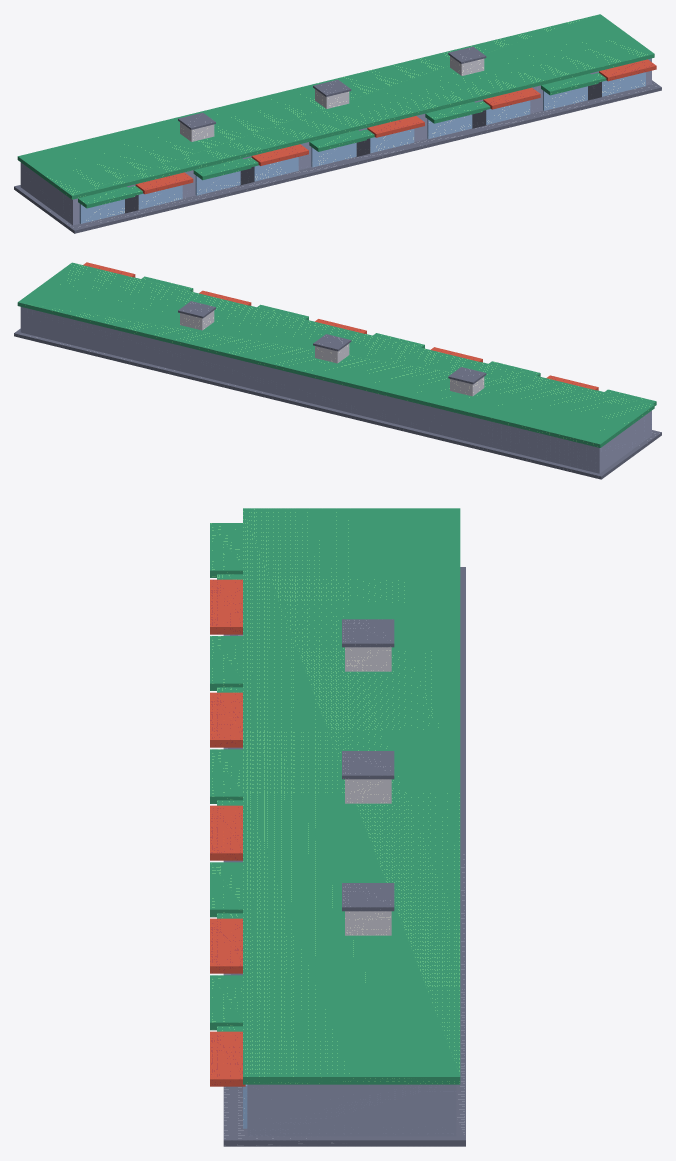
File: com-5x1-l1.glb
3 renders of one model, top to bottom at view 1: azimuth 30°, elevation 25°; view 2: azimuth 150°, elevation 25°; view 3: azimuth 270°, elevation 25°, orthographic. The views are drawn at different scales.
Parts seen in each view (by area): view 1: com-5x1-l1; view 2: com-5x1-l1; view 3: com-5x1-l1.
Part boxes in pixels (x1,y1,x2,y2): com-5x1-l1: [14, 14, 661, 233]; com-5x1-l1: [14, 262, 661, 479]; com-5x1-l1: [210, 508, 465, 1146].
Size of the model in its own units: 9.86 by 0.775 by 1.86.
1 material, 1 textured.
